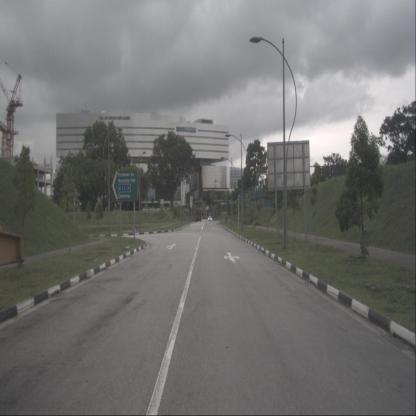vehicle-bicycle: (131, 225, 136, 233)
vehicle-car: (208, 215, 212, 222)
